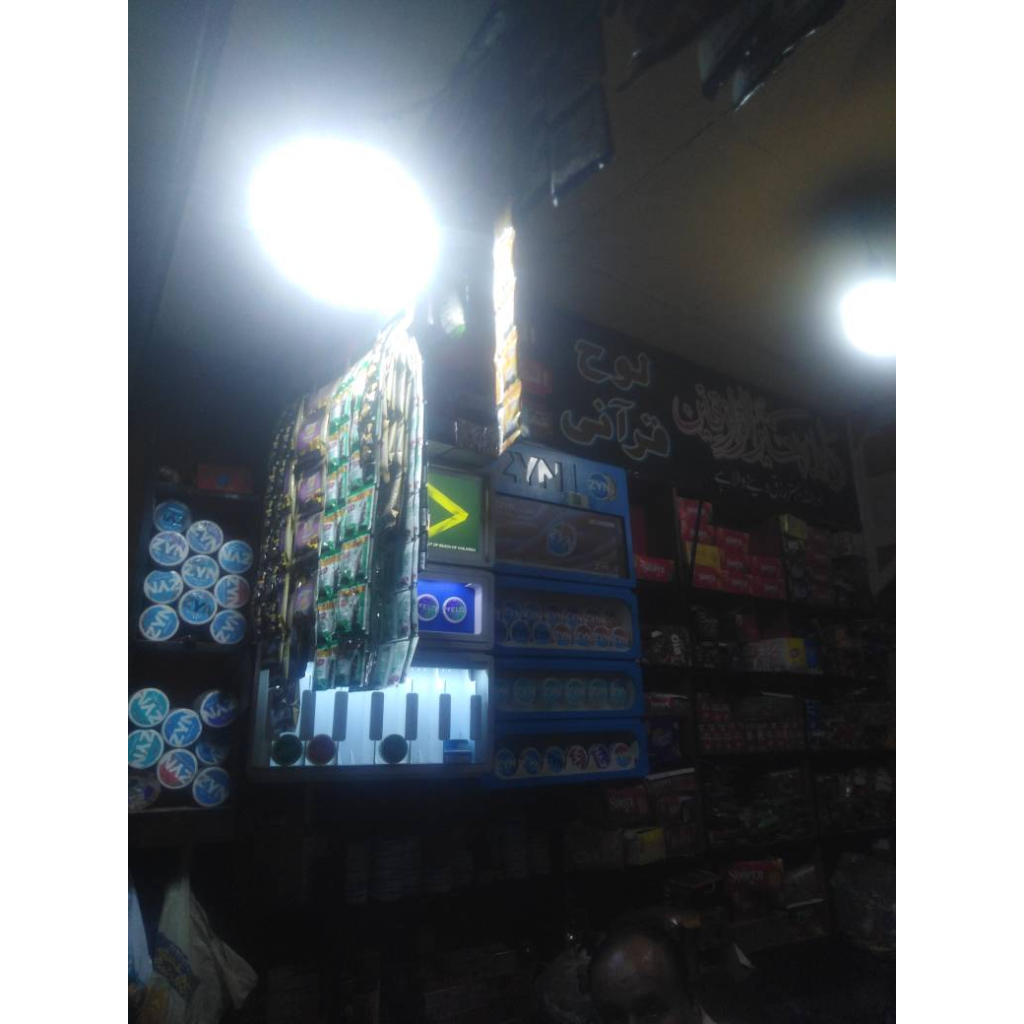Visibility_hidden_other_items: (466, 425, 514, 770)
backlit_not_functional: (494, 491, 631, 579), (495, 595, 629, 646), (494, 733, 637, 775), (497, 670, 633, 712)
compartment: (491, 587, 636, 653), (488, 723, 642, 782), (490, 661, 639, 720)
